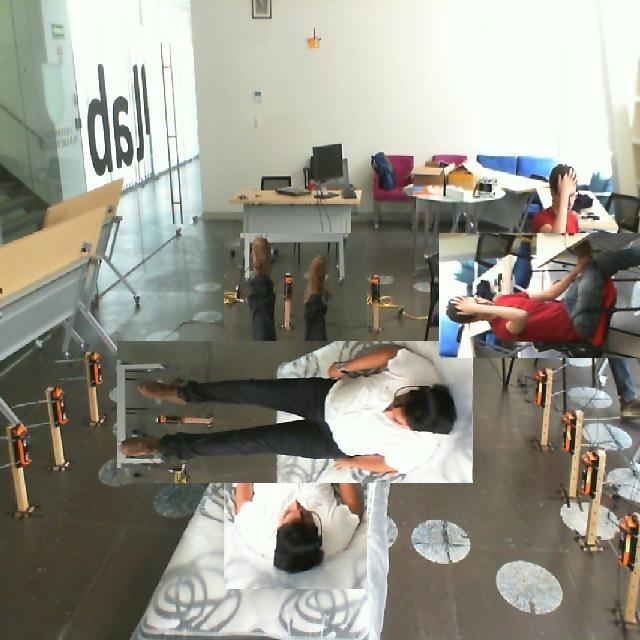Fall: (132, 356, 462, 489)
NotFall: (431, 247, 640, 355)
